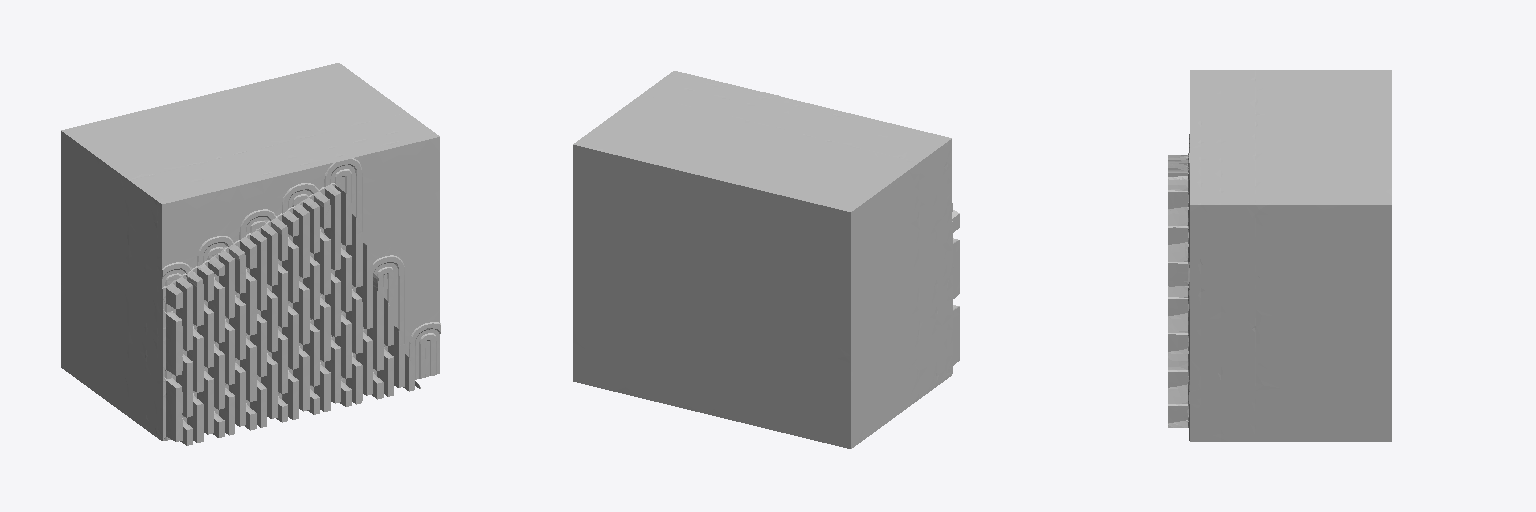
Rendered from initial_struct.obj.
3 views of the same model, side by side, from view 1: azimuth 30°, elevation 25°; view 2: azimuth 150°, elevation 25°; view 3: azimuth 270°, elevation 25° (orthographic).
Bounding box in the file's own units: 946 × 770 × 660.